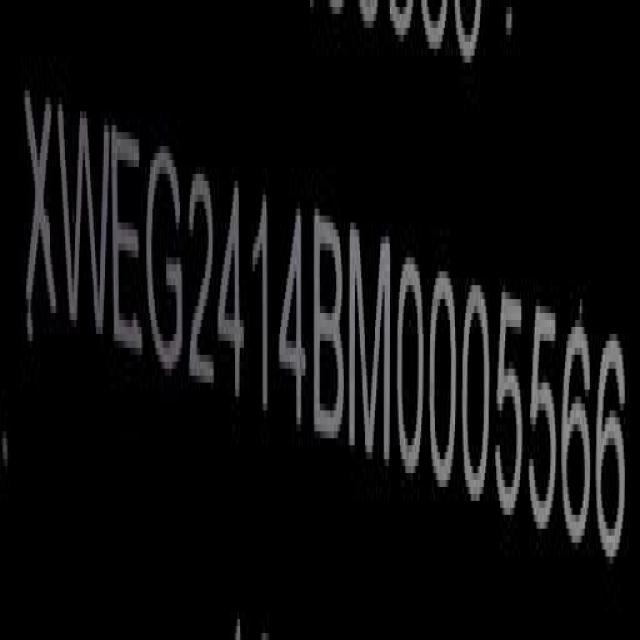0: (397, 243, 427, 484), (461, 274, 489, 514), (431, 260, 458, 496)
1: (255, 187, 273, 426)
2: (189, 161, 217, 399)
4: (280, 193, 310, 437), (218, 174, 246, 415)
5: (498, 283, 527, 523), (530, 292, 558, 535)
6: (561, 307, 592, 554), (599, 325, 629, 565)
B: (314, 210, 346, 450)
E: (114, 117, 145, 368)
G: (146, 129, 184, 382)
M: (351, 218, 391, 472)
W: (58, 83, 112, 357)
X: (21, 74, 58, 349)
